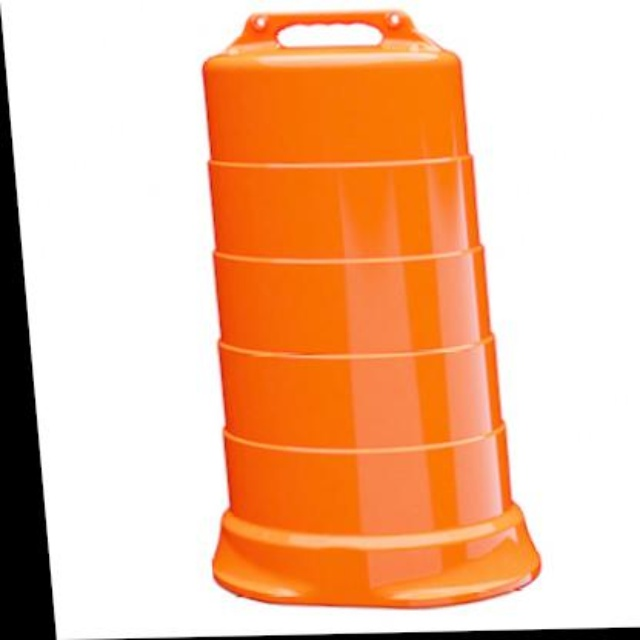obstacle: (161, 12, 539, 618)
